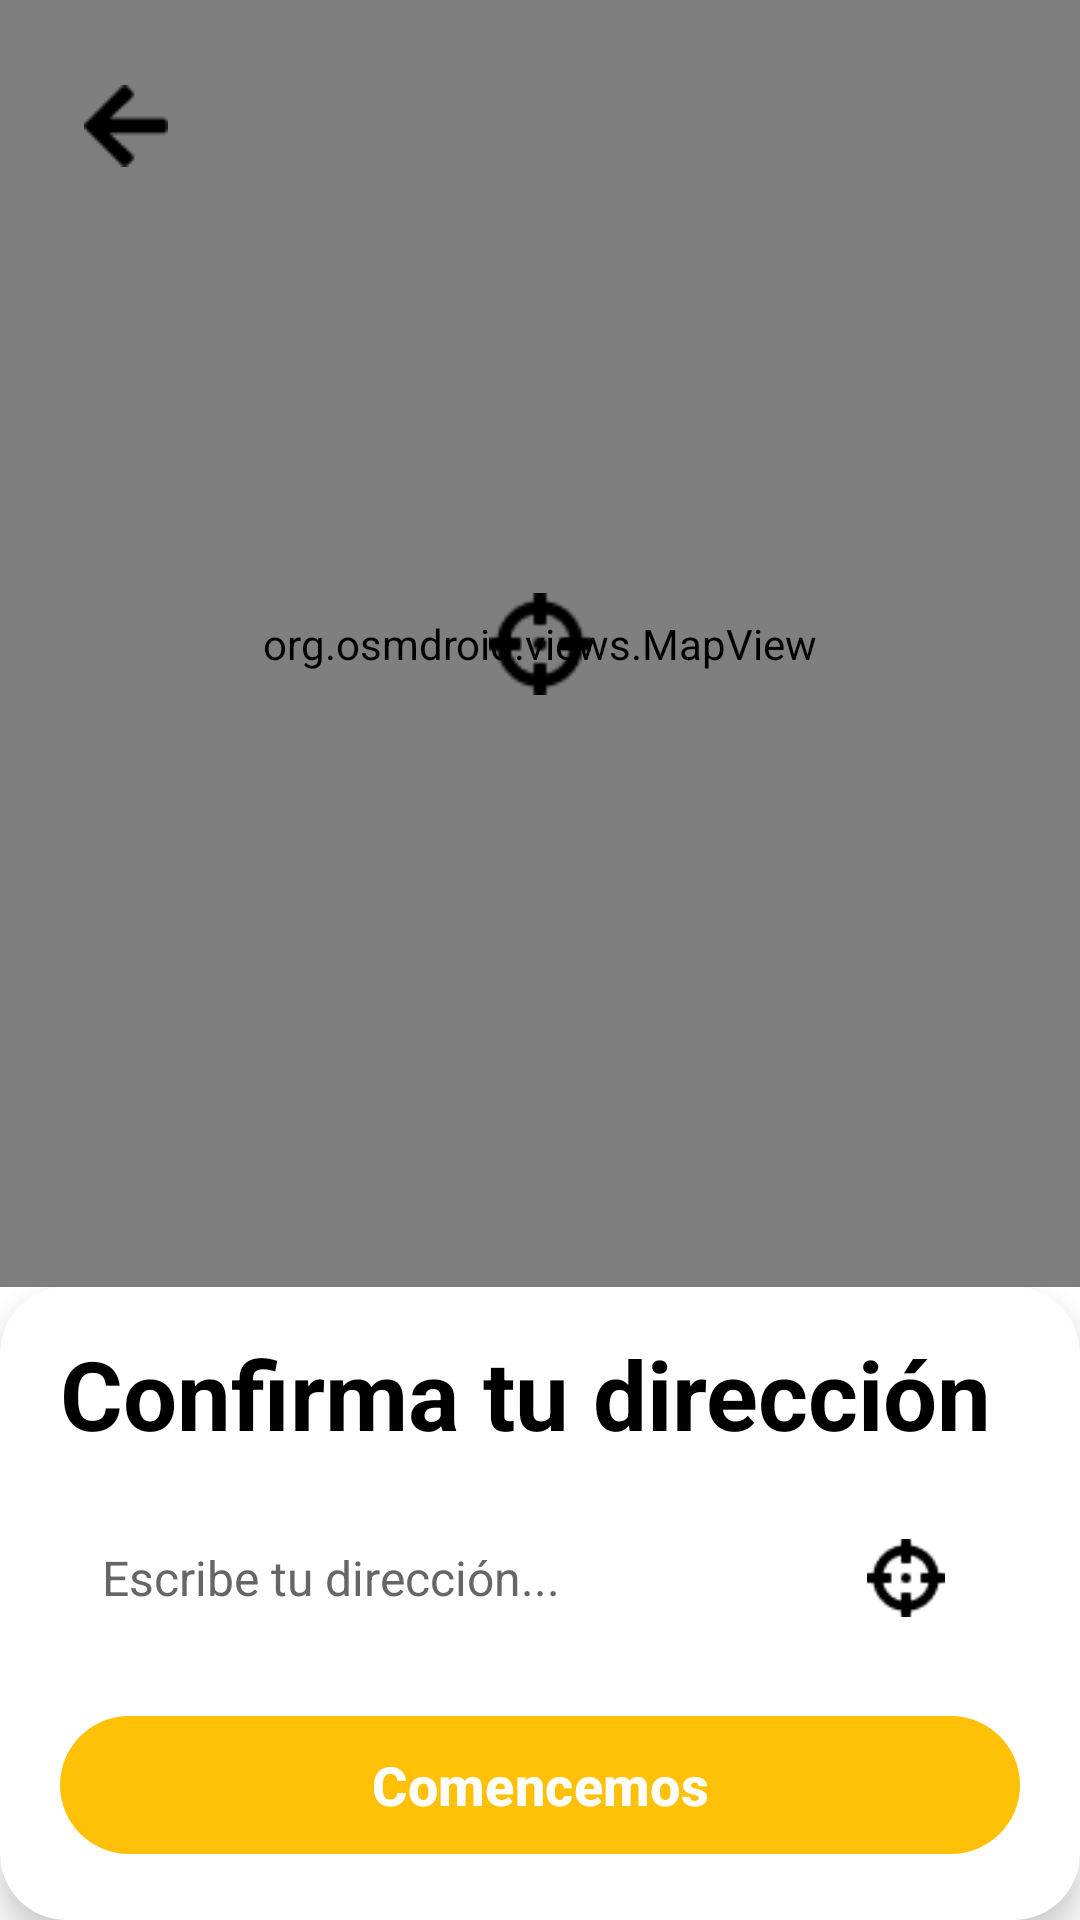

Named icons in this screenshot (1080w x 1920h) and their bounding boxes, (x1, y1, x2, y2):
Atrás: (84, 85, 168, 167)
GPS: (867, 1539, 945, 1617)
